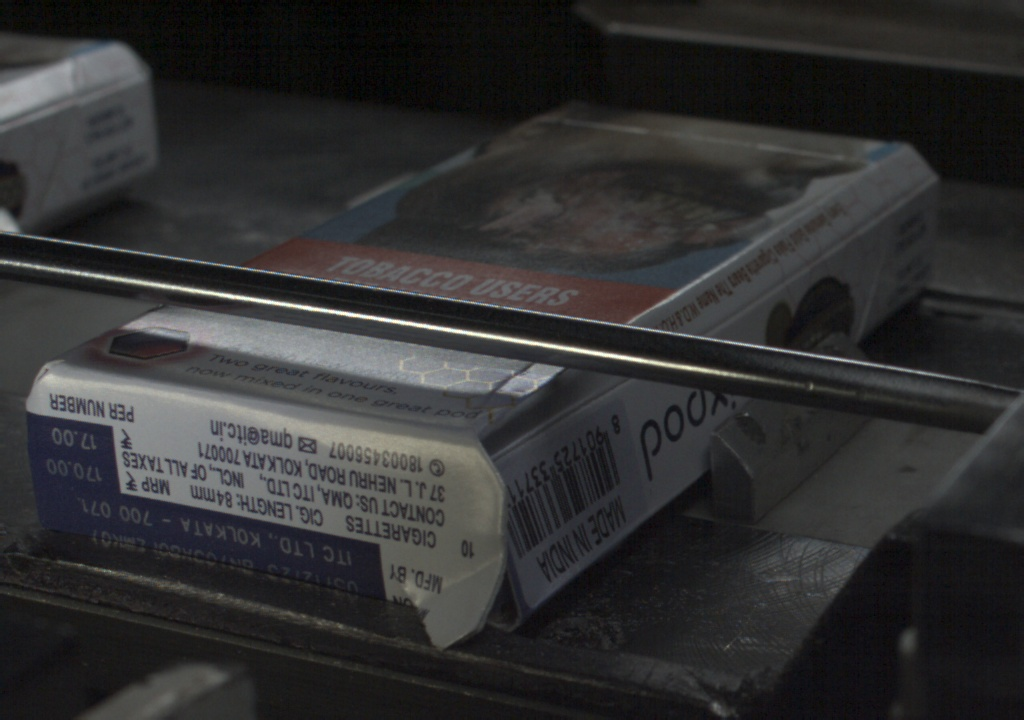g_label: (33, 493, 388, 604)
g_lmiter: (705, 267, 796, 333), (796, 211, 884, 266)
g_miter: (889, 171, 939, 212)
ng_bottom: (416, 444, 526, 653)
ng_lmiter: (498, 396, 578, 450)
price: (29, 420, 122, 490)
